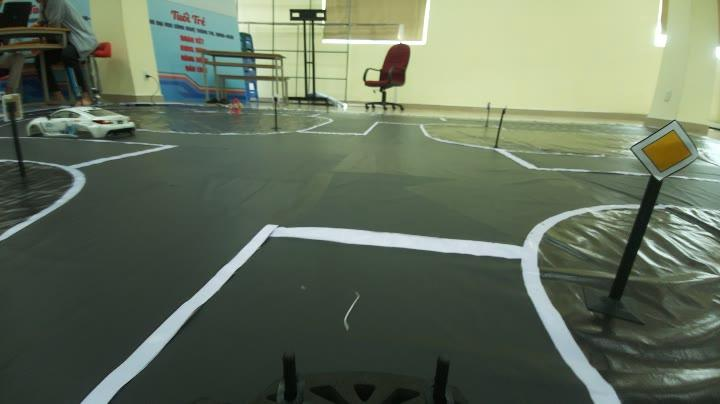priority: (628, 122, 700, 178)
